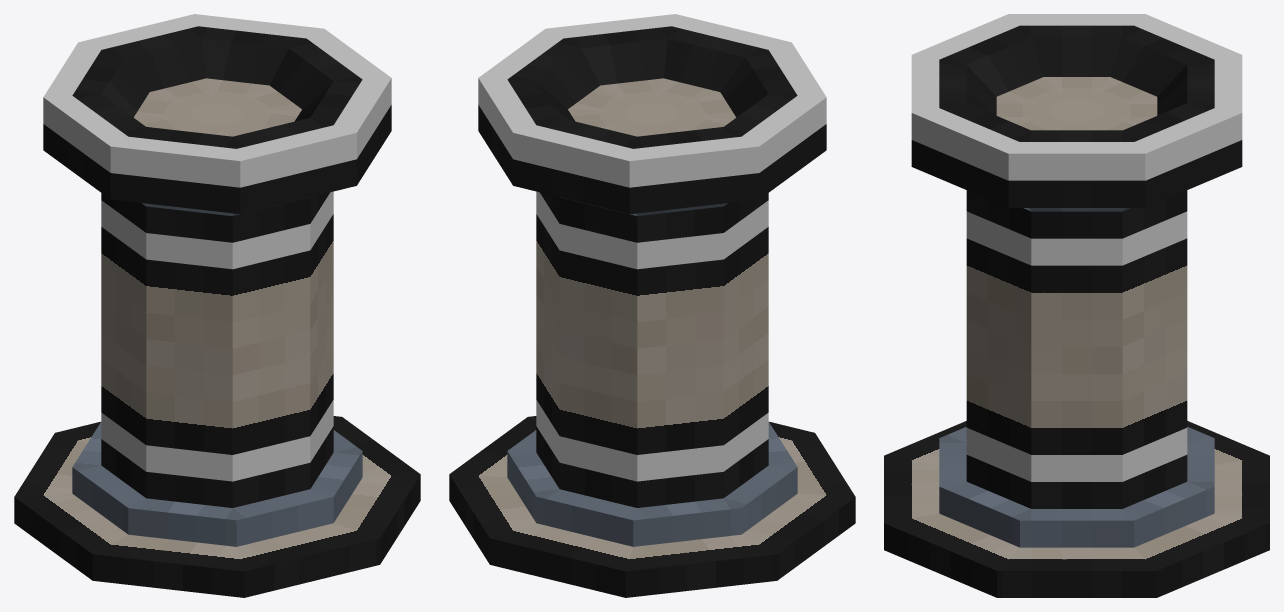
The model's file is pedestal_main.obj.
3 renders of one model, left to right at view 1: azimuth 30°, elevation 25°; view 2: azimuth 150°, elevation 25°; view 3: azimuth 270°, elevation 25°, orthographic.
Visible parts, largest first — view 1: PEDESTAL_Cylinder.001; view 2: PEDESTAL_Cylinder.001; view 3: PEDESTAL_Cylinder.001.
Boxes of the visible parts, x1,y1,x2,y2 form: PEDESTAL_Cylinder.001: (14, 14, 420, 597); PEDESTAL_Cylinder.001: (449, 14, 855, 597); PEDESTAL_Cylinder.001: (884, 14, 1269, 597).
Bounding box in the file's own units: 0.8084 × 1 × 0.8084.
